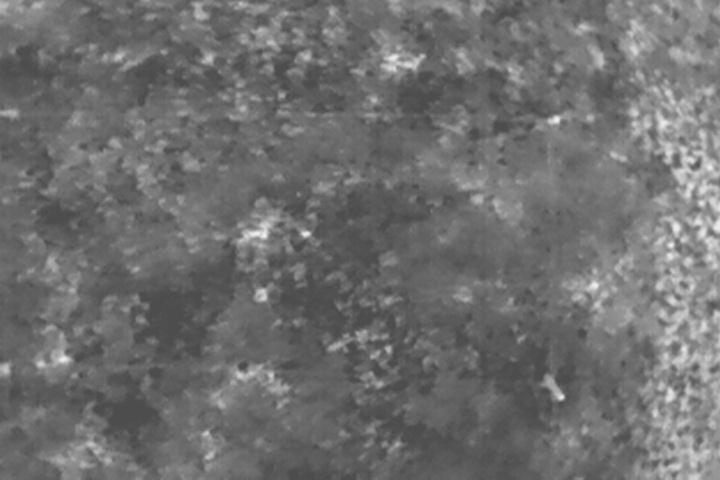landmine: (248, 226, 270, 241)
